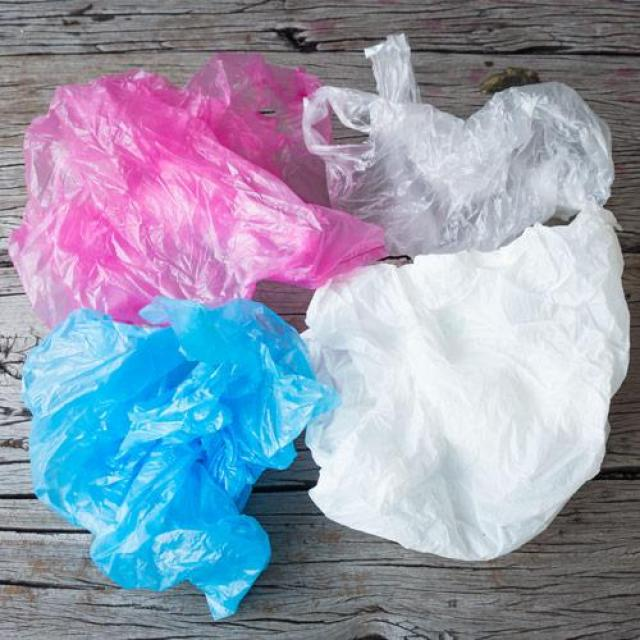plastic_bag: (299, 204, 638, 566), (33, 301, 344, 624), (19, 64, 367, 333), (278, 11, 617, 235)
